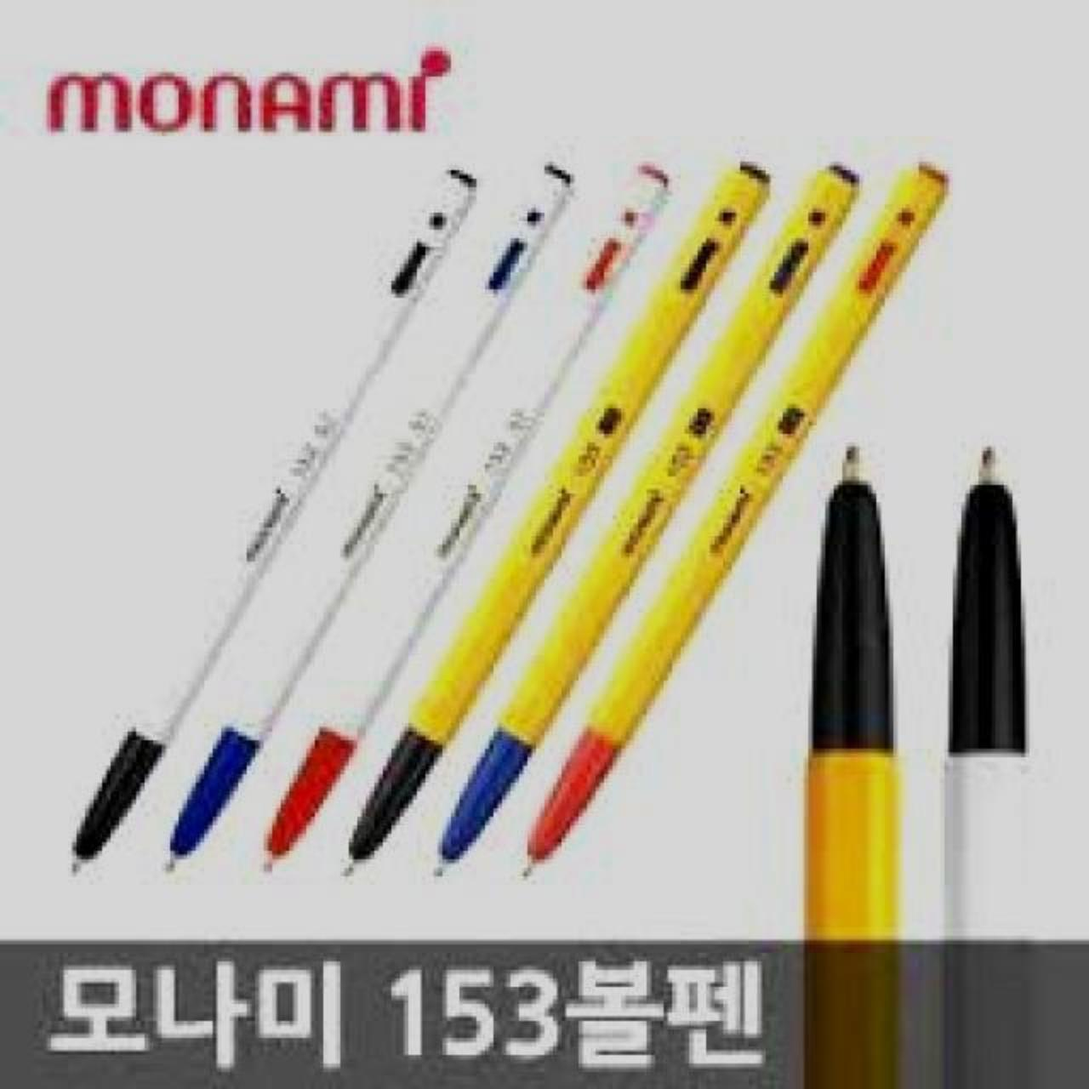pen: (68, 167, 485, 878)
